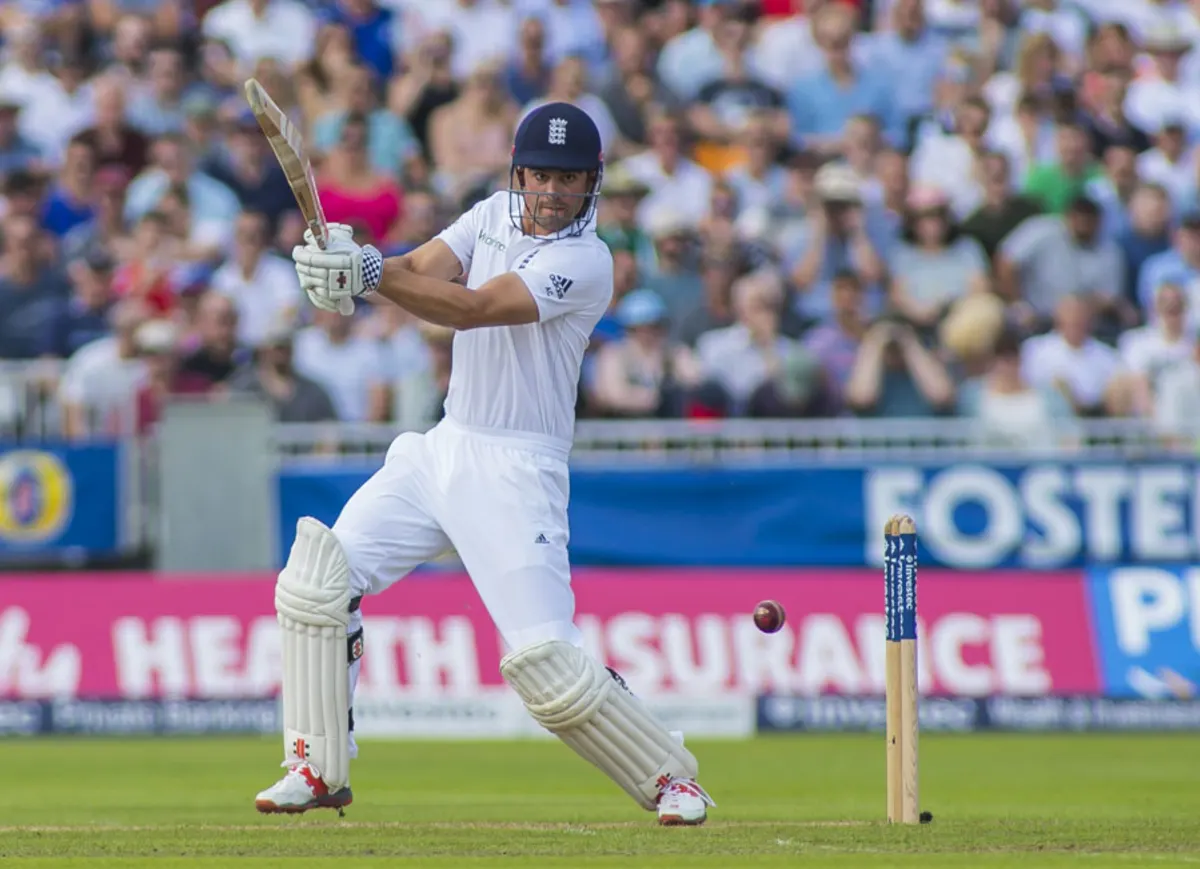Cutshot: (160, 9, 847, 869)
